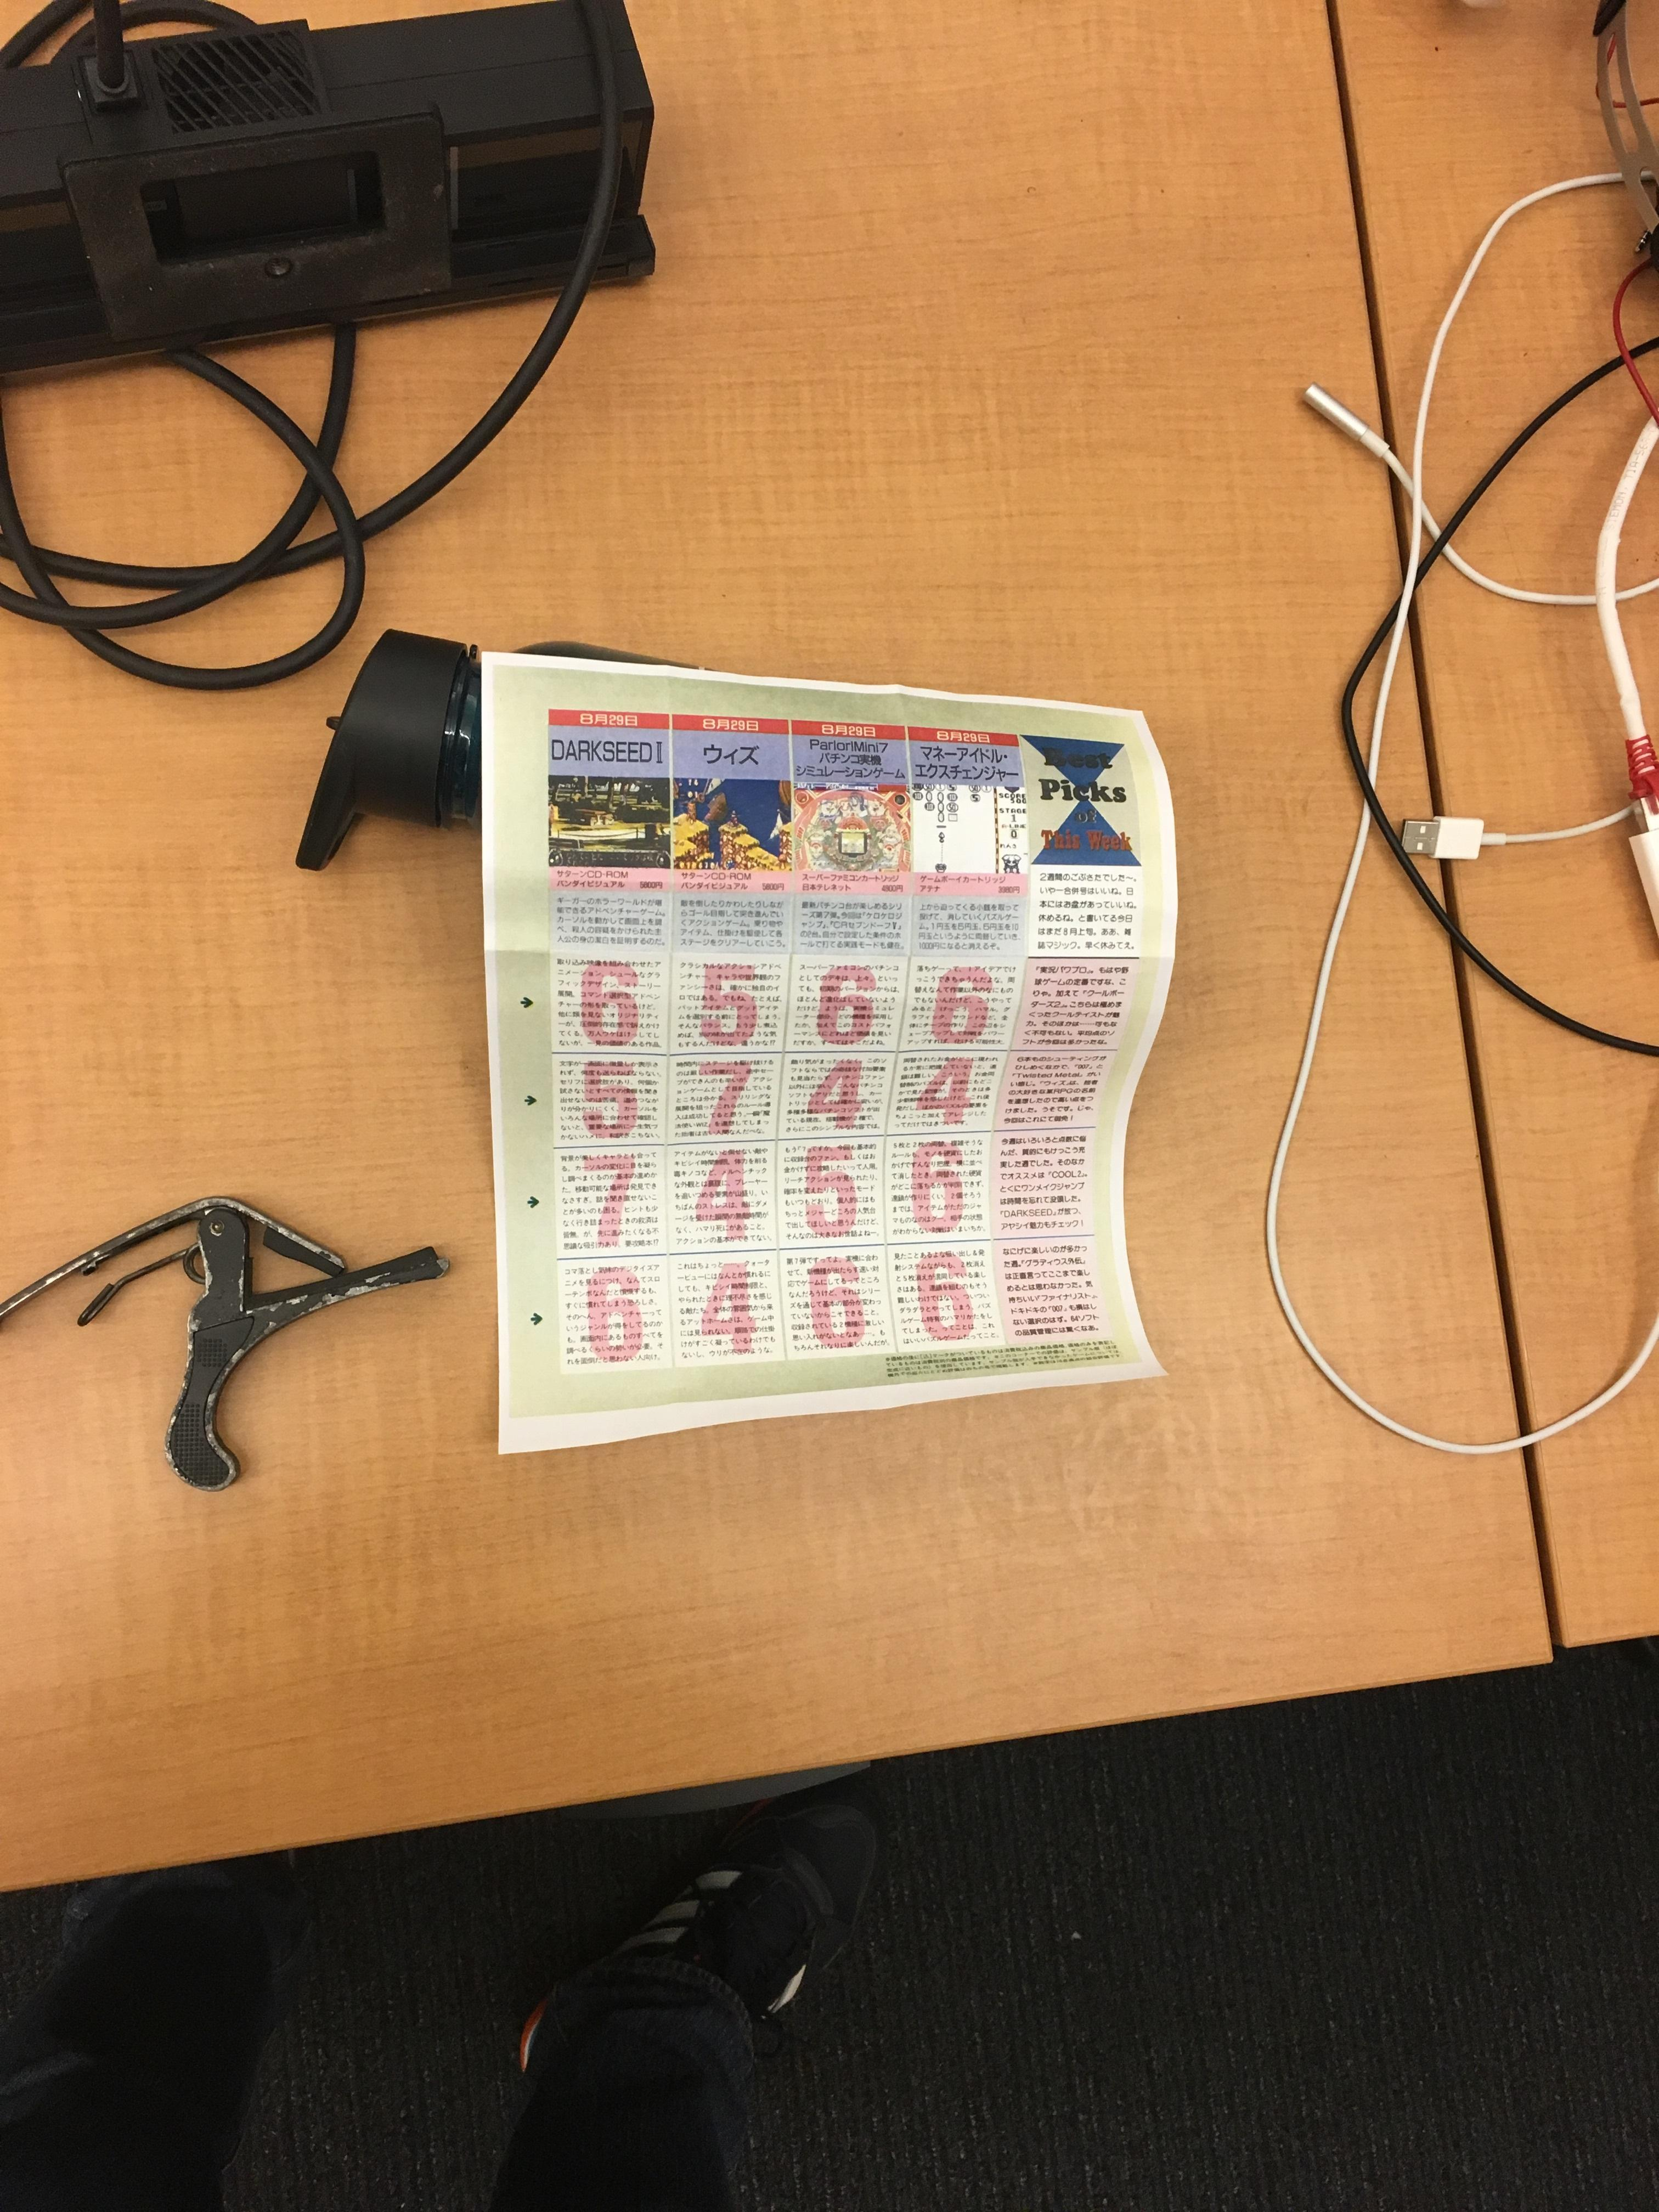paper: (354, 557, 1447, 1634)
